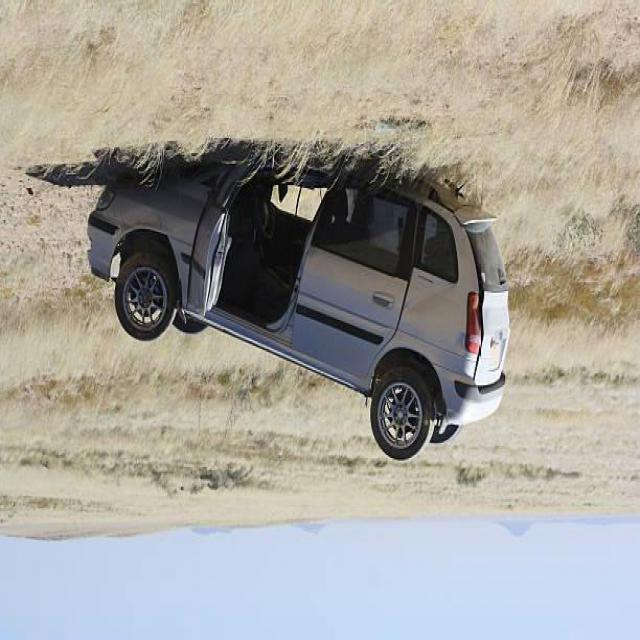severe: (77, 146, 515, 464)
